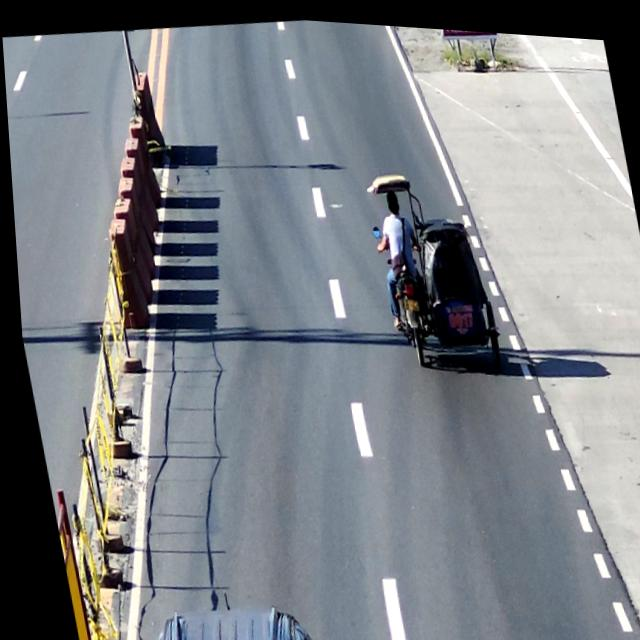Car: (109, 583, 342, 640)
License-Plate: (395, 283, 420, 314)
Tricycle: (360, 157, 503, 380)
